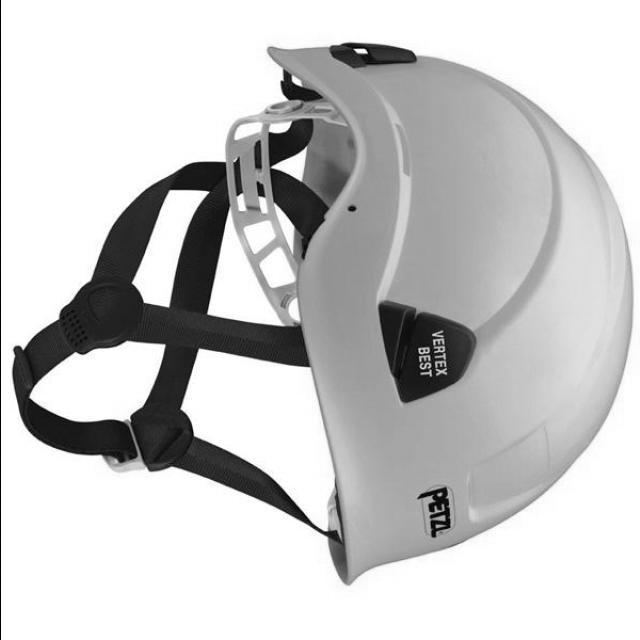safety_helmet: (265, 41, 631, 585)
